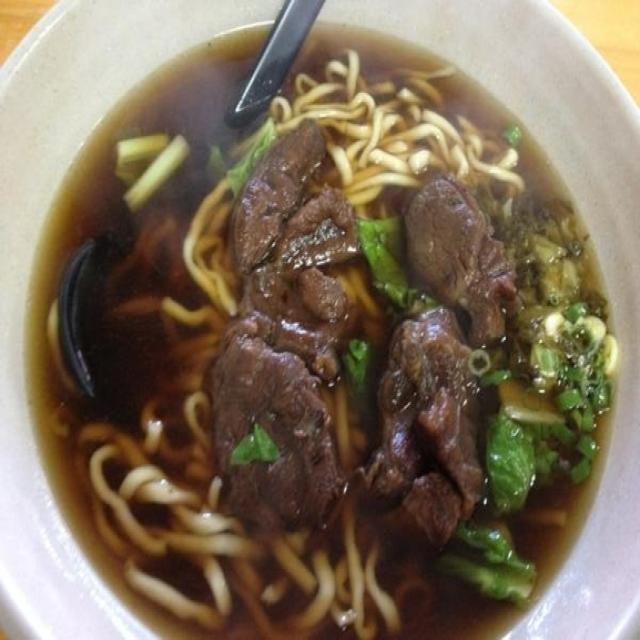面条主食: (34, 40, 604, 618)
